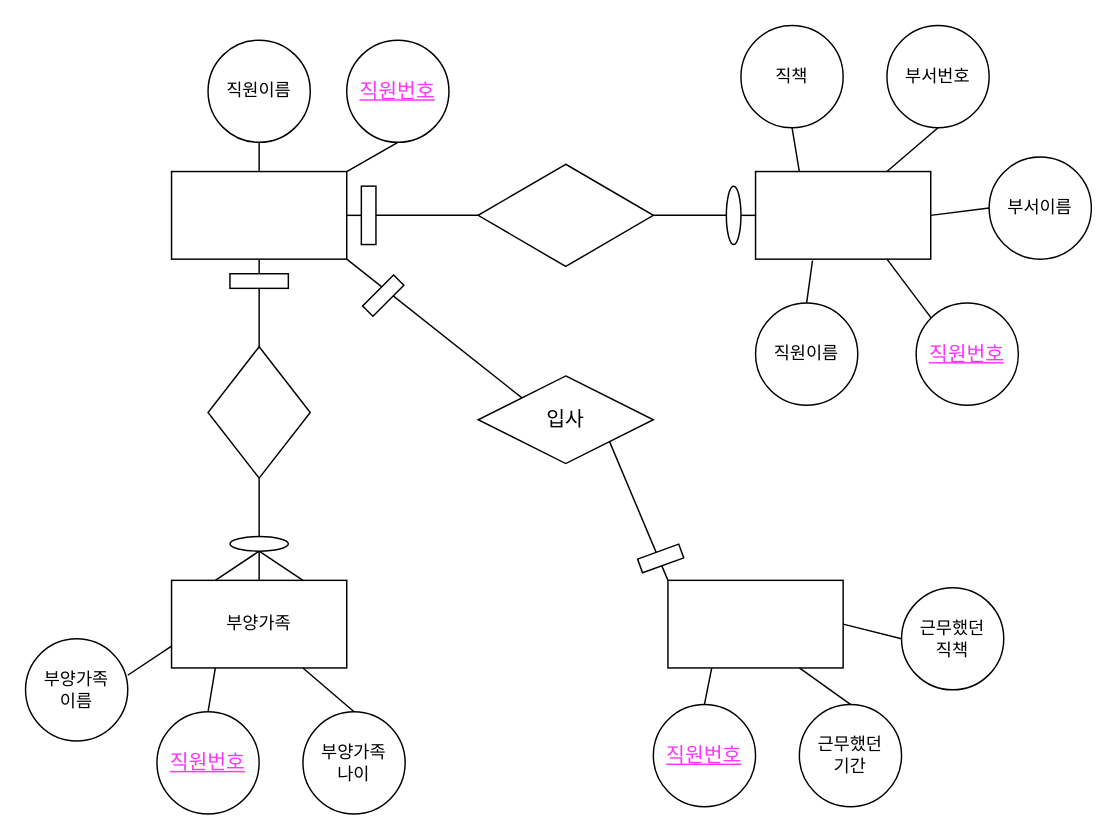
This 1117x840 diagram has some shape labels left out. Each missing label, with the centre of its shape:
"가족 유무" belongs at (x=258, y=411).
"근무기록" belongs at (x=754, y=623).
"부서" belongs at (x=842, y=214).
"소속부서" belongs at (x=565, y=214).
"직원" belongs at (x=258, y=214).
